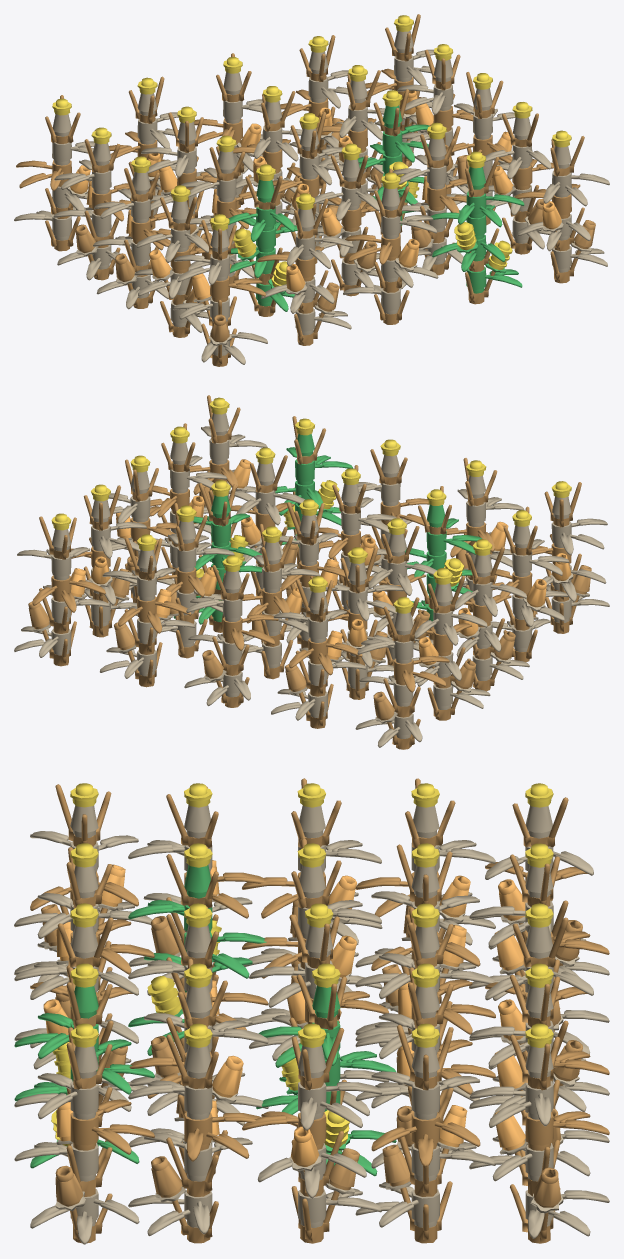
Rendered from corn_field_lod1.fbx.
3 renders of one model, top to bottom at view 1: azimuth 30°, elevation 25°; view 2: azimuth 150°, elevation 25°; view 3: azimuth 270°, elevation 25°, orthographic. The views are drawn at different scales.
Visible parts, largest first — view 1: corn_field_lod1; view 2: corn_field_lod1; view 3: corn_field_lod1.
Part boxes in pixels (x1,y1,x2,y2): corn_field_lod1: [14, 14, 609, 366]; corn_field_lod1: [14, 395, 609, 749]; corn_field_lod1: [14, 778, 609, 1244].
Bounding box in the file's own units: 299 × 98.73 × 252.
